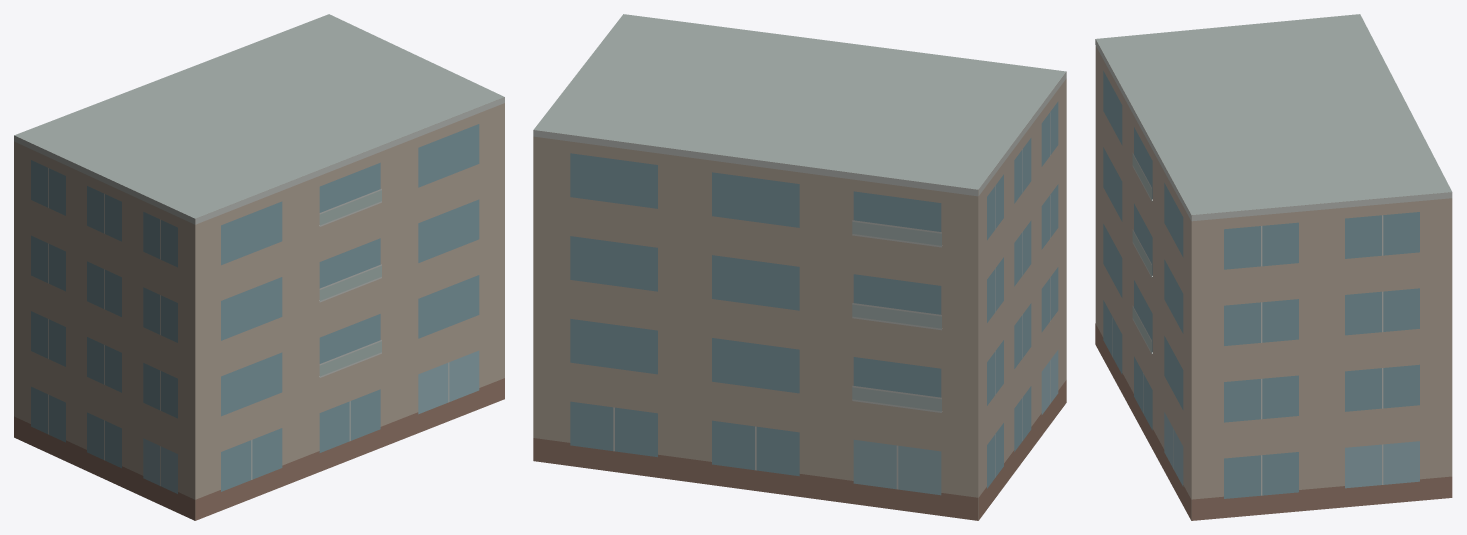
The model's file is survey-upis-32683429.glb.
3 renders of one model, left to right at view 1: azimuth 30°, elevation 25°; view 2: azimuth 150°, elevation 25°; view 3: azimuth 270°, elevation 25°, orthographic. The views are drawn at different scales.
Visible parts, largest first — view 1: survey-upis-32683429.tmp; view 2: survey-upis-32683429.tmp; view 3: survey-upis-32683429.tmp.
Boxes of the visible parts, x1,y1,x2,y2 form: survey-upis-32683429.tmp: (14, 14, 504, 520); survey-upis-32683429.tmp: (533, 14, 1066, 520); survey-upis-32683429.tmp: (1095, 14, 1452, 520).
Bounding box in the file's own units: 17.23 × 12.2 × 12.92.
